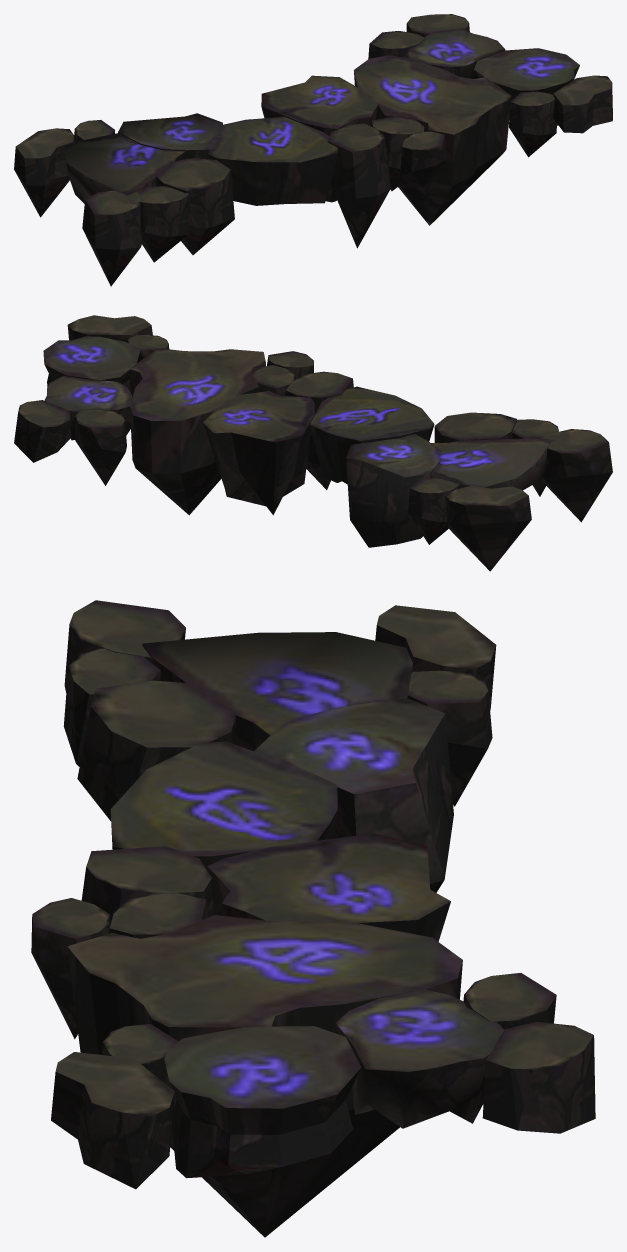
File: Battle01_Road_01.FBX
The picture shows the model from 3 angles, top to bottom: view 1: azimuth 30°, elevation 25°; view 2: azimuth 150°, elevation 25°; view 3: azimuth 270°, elevation 25°; orthographic projection. The views are drawn at different scales.
Visible parts, largest first — view 1: Battle01_Road_01; view 2: Battle01_Road_01; view 3: Battle01_Road_01.
Part boxes in pixels (bbox=[...]): Battle01_Road_01: bbox=[14, 14, 612, 286]; Battle01_Road_01: bbox=[14, 315, 612, 571]; Battle01_Road_01: bbox=[31, 600, 595, 1237].
Bounding box in the file's own units: 31.73 × 7.75 × 14.63.
